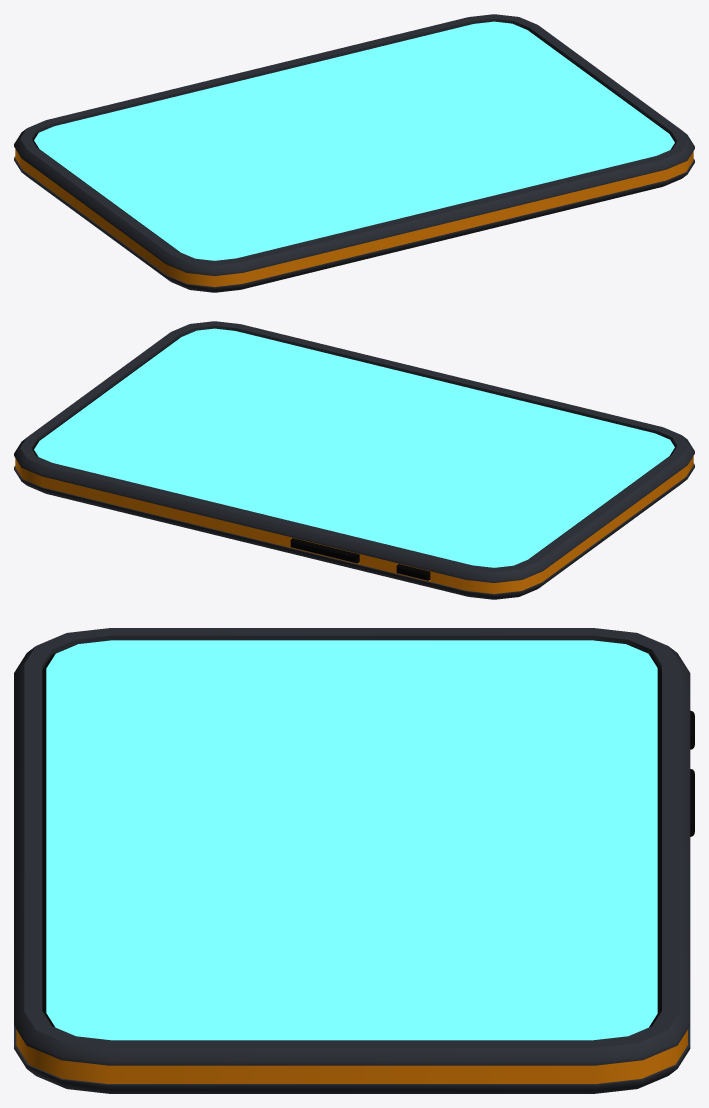
File: SM_Medical_Data_Tablet.fbx
3 renders of one model, top to bottom at view 1: azimuth 30°, elevation 25°; view 2: azimuth 150°, elevation 25°; view 3: azimuth 270°, elevation 25°, orthographic. The views are drawn at different scales.
Visible parts, largest first — view 1: SM_Medical_Data_Tablet; view 2: SM_Medical_Data_Tablet; view 3: SM_Medical_Data_Tablet.
Boxes of the visible parts, x1,y1,x2,y2 form: SM_Medical_Data_Tablet: [14, 14, 694, 292]; SM_Medical_Data_Tablet: [14, 321, 694, 599]; SM_Medical_Data_Tablet: [14, 628, 694, 1093].
Bounding box in the file's own units: 30 × 1.5 × 20.14.
